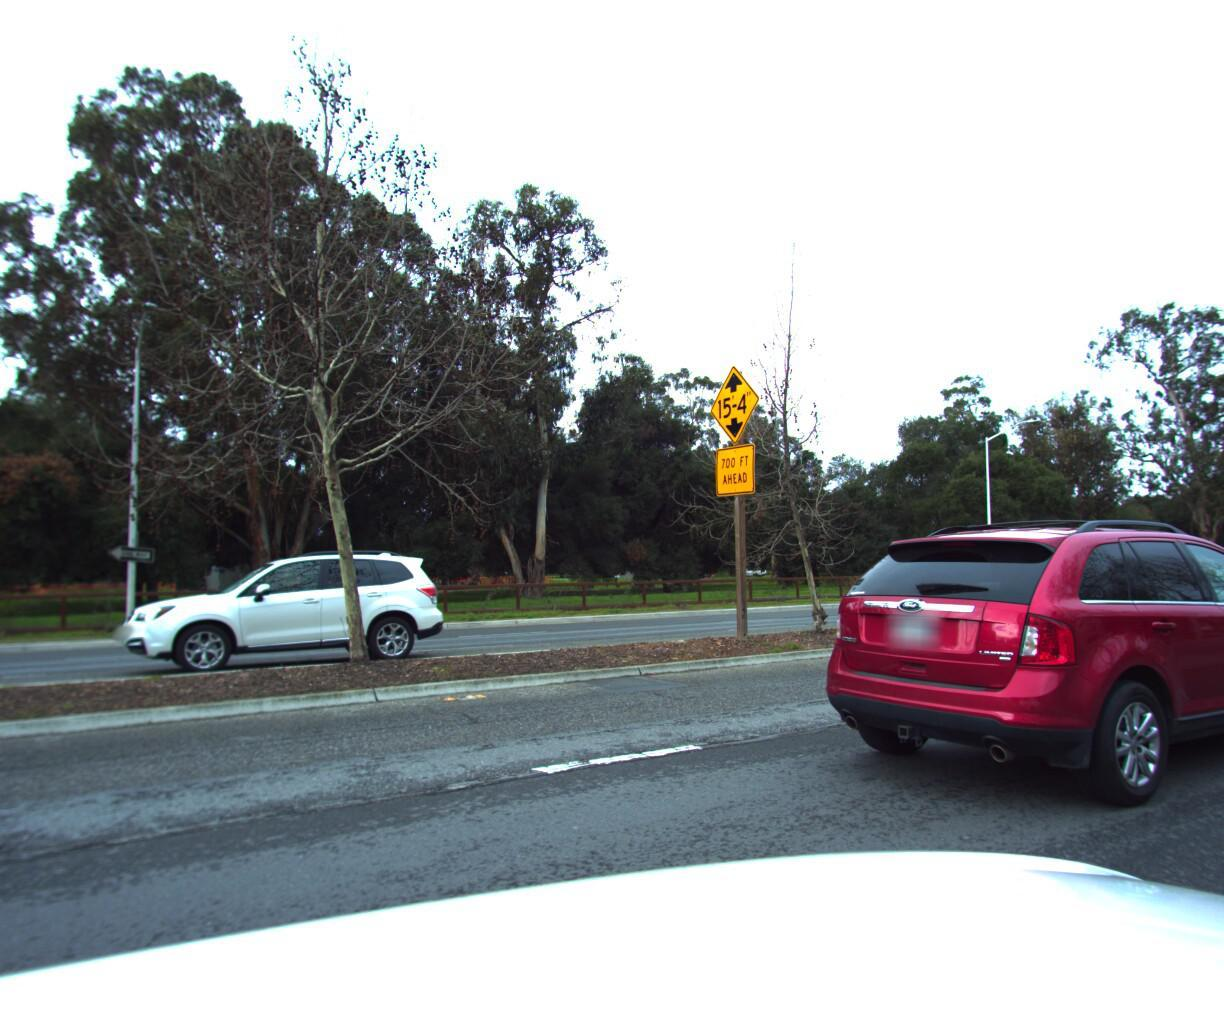car: (776, 487, 1224, 834), (114, 547, 460, 685), (1194, 533, 1224, 596)
